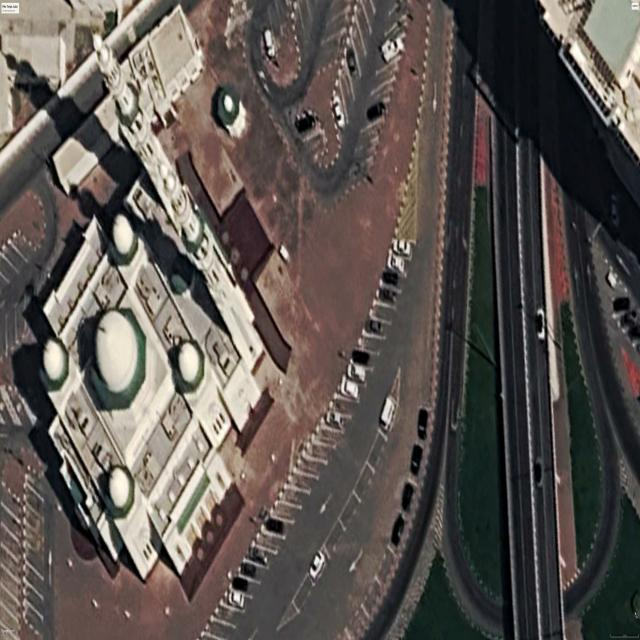Home: (41, 34, 263, 598)
